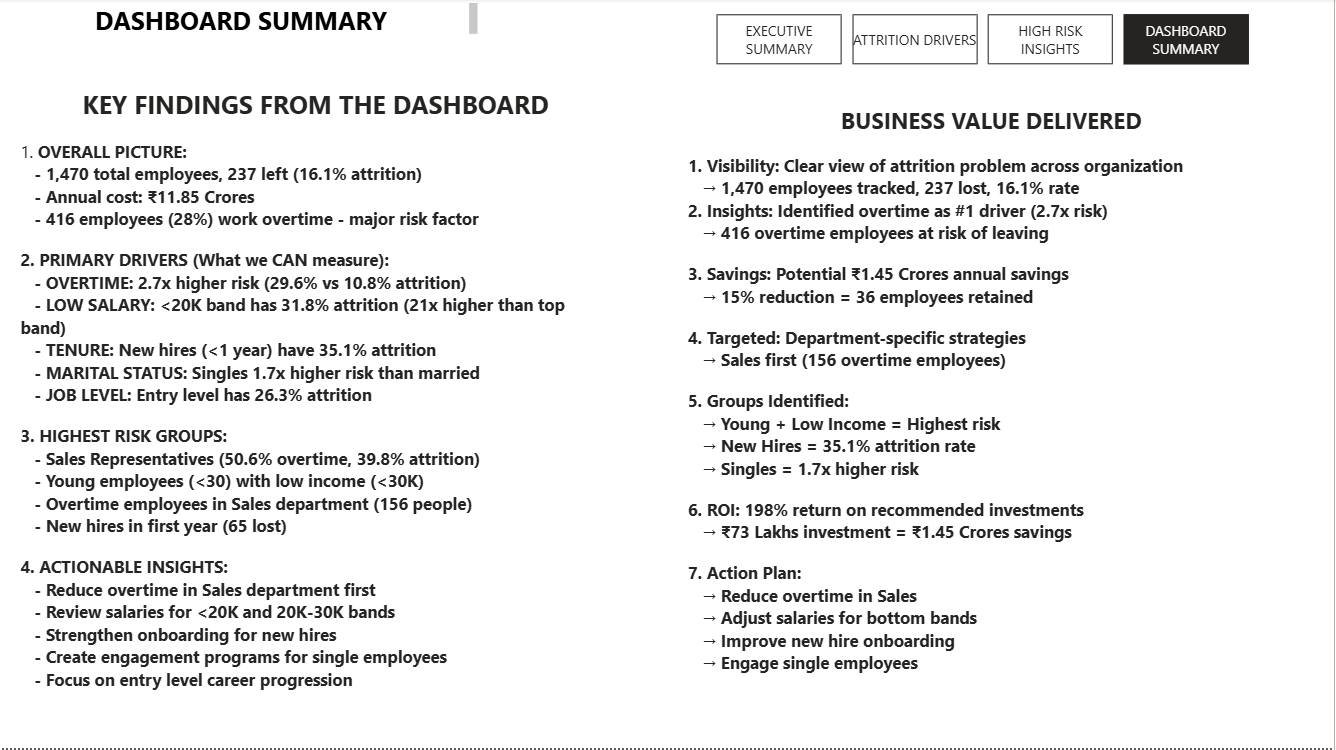

What the dashboard file says about the page in this screenshot:
{"tool":"powerbi","page":{"name":"DASHBOARD SUMMARY ","canvas":[1280,720],"ordinal":3},"visuals":[{"type":"textbox","box":[16,64,576,608],"z":0},{"type":"textbox","box":[656,80,592,592],"z":1},{"type":"textbox","box":[16,0,448,48],"z":2},{"type":"pageNavigator","box":[688,16,512,48],"z":3}]}

Visuals, with their boxes in screenshot pixels (x1, y1, x2, y2), scaled from the page's 1280x720 canvas onto the 1336x750 screenshot:
textbox: x1=17, y1=67, x2=618, y2=700
textbox: x1=685, y1=83, x2=1303, y2=700
textbox: x1=17, y1=0, x2=484, y2=50
pageNavigator: x1=718, y1=17, x2=1252, y2=67
